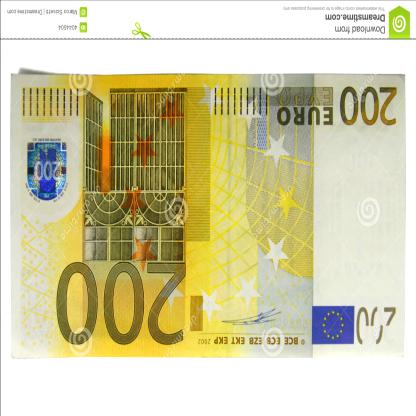euro_banknote: (12, 74, 406, 358)
